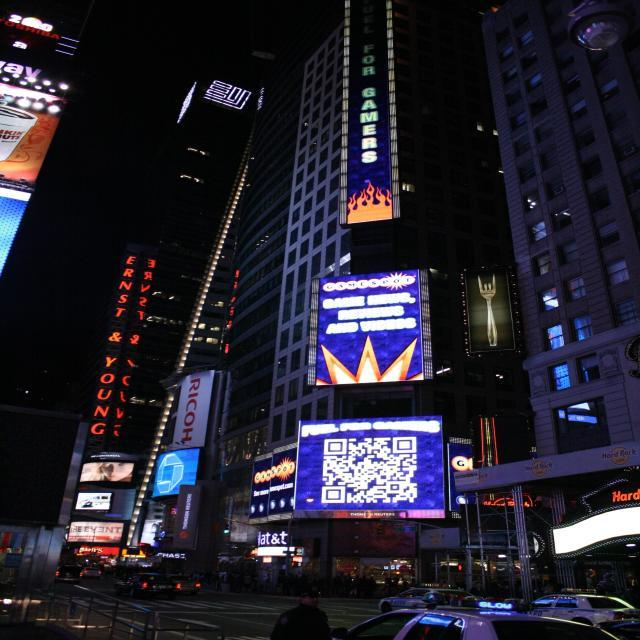qr-code: (322, 436, 418, 503)
